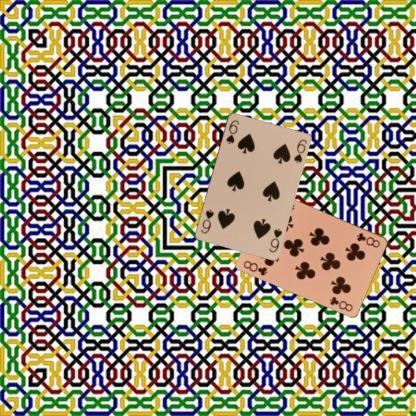6s: (266, 225, 283, 254), (223, 117, 240, 145)
8c: (240, 258, 270, 276), (354, 230, 382, 249)
